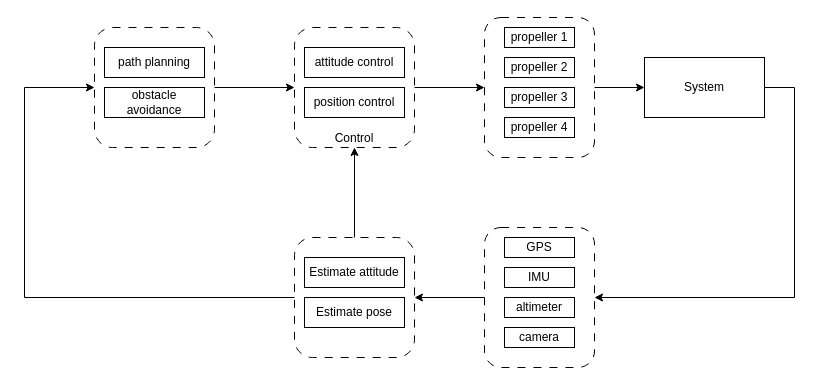
This 820x385 diagram has some shape labels left out. The shapes that lost their labels are listed below. From the top down, each one's box as (x1, y1, x2, y2) in pixels, then its label:
(94, 26, 214, 148): Guidance
(484, 16, 594, 158): Actuators
(294, 236, 414, 358): Navigation
(484, 226, 594, 368): Sensors
